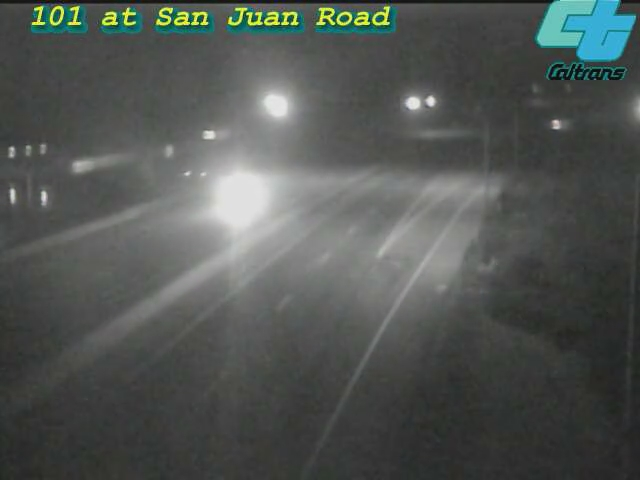vehicle: (196, 160, 276, 240)
